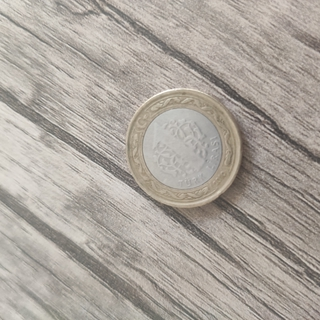1TL: (123, 85, 243, 210)
